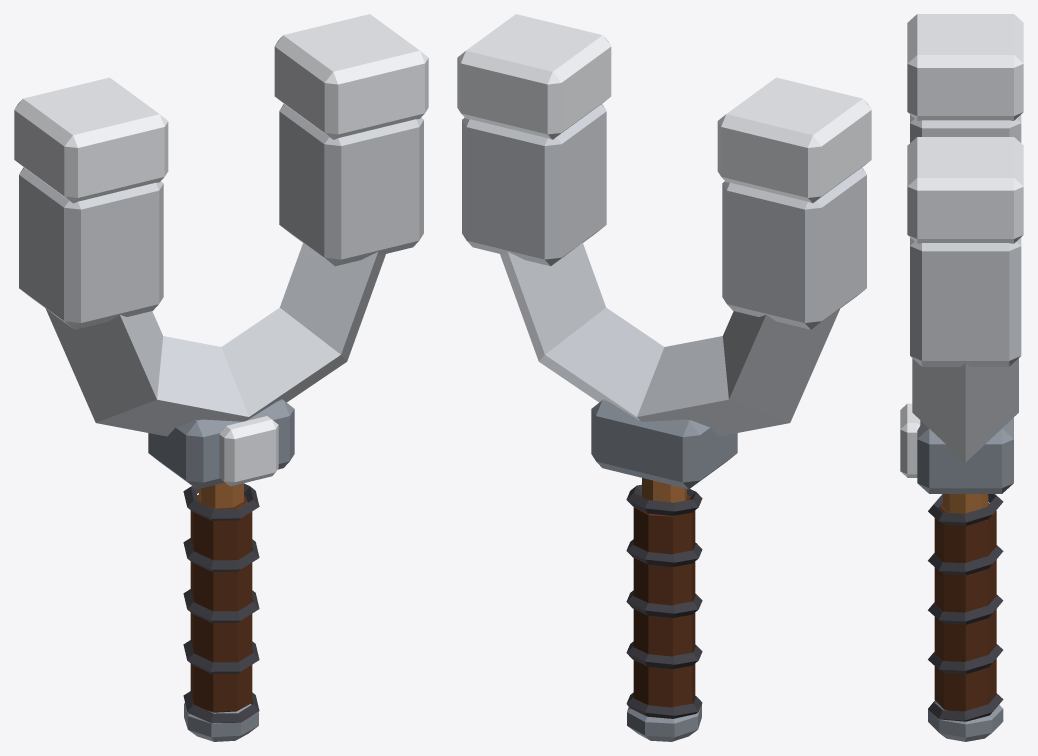
Rendered from IronCoinMagnet.fbx.
3 views of the same model, side by side, from view 1: azimuth 30°, elevation 25°; view 2: azimuth 150°, elevation 25°; view 3: azimuth 270°, elevation 25° (orthographic). The views are drawn at different scales.
Parts seen in each view (by area): view 1: IronCoinMagnet; view 2: IronCoinMagnet; view 3: IronCoinMagnet.
Part boxes in pixels (x1,y1,x2,y2): IronCoinMagnet: [14, 14, 428, 741]; IronCoinMagnet: [457, 14, 871, 741]; IronCoinMagnet: [900, 14, 1023, 741].
Bounding box in the file's own units: 1.68 × 2.89 × 0.51.
Materials: 1 (1 with a texture image).
